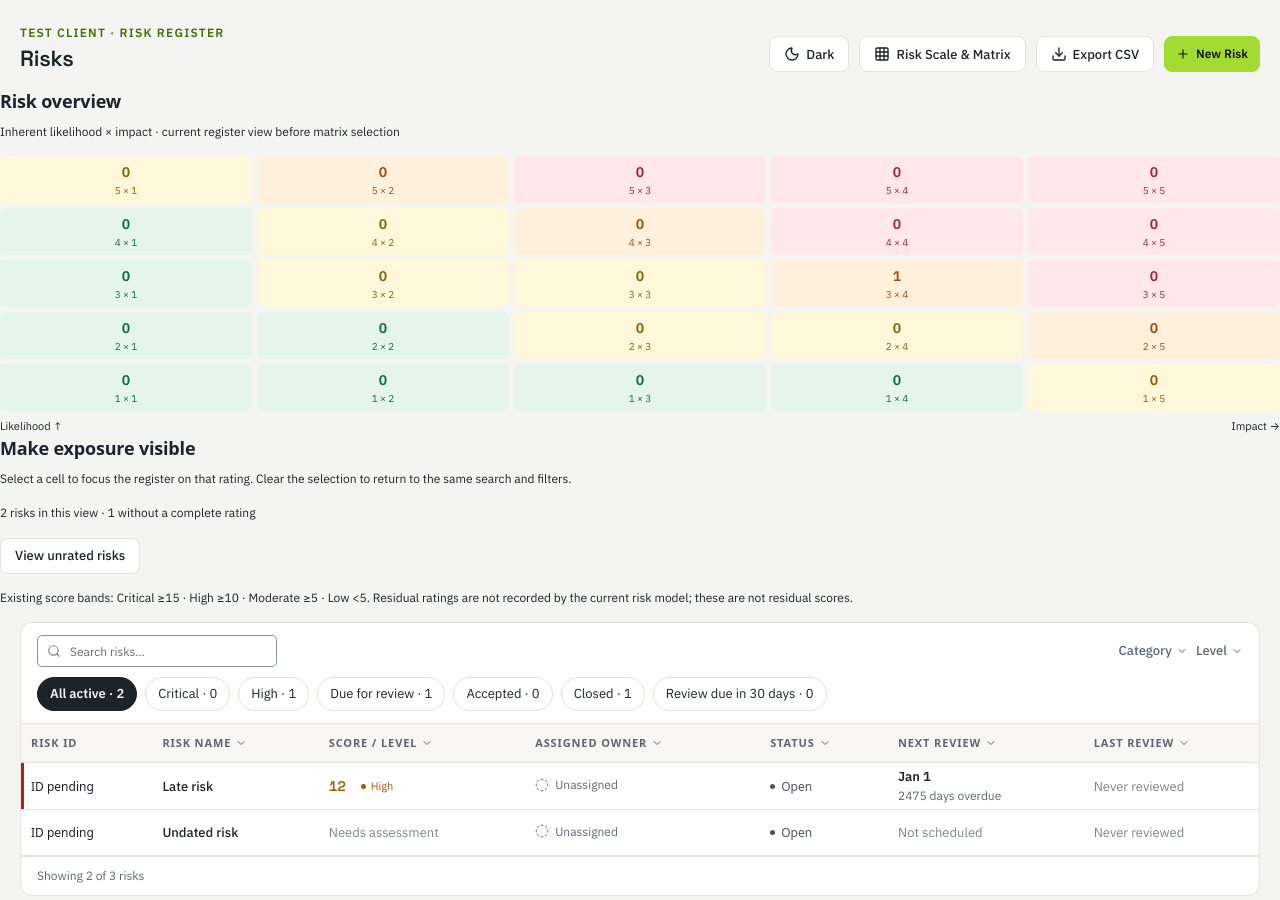
Scenario: approved filters replace summary cards and preserve client isolation
Later steps or results of the test are not shown.
What coordinates should you click on to do the following:
click the button "Due for review · 1"
I would click on:
 (381, 694)
Its box is [317,677,445,711].
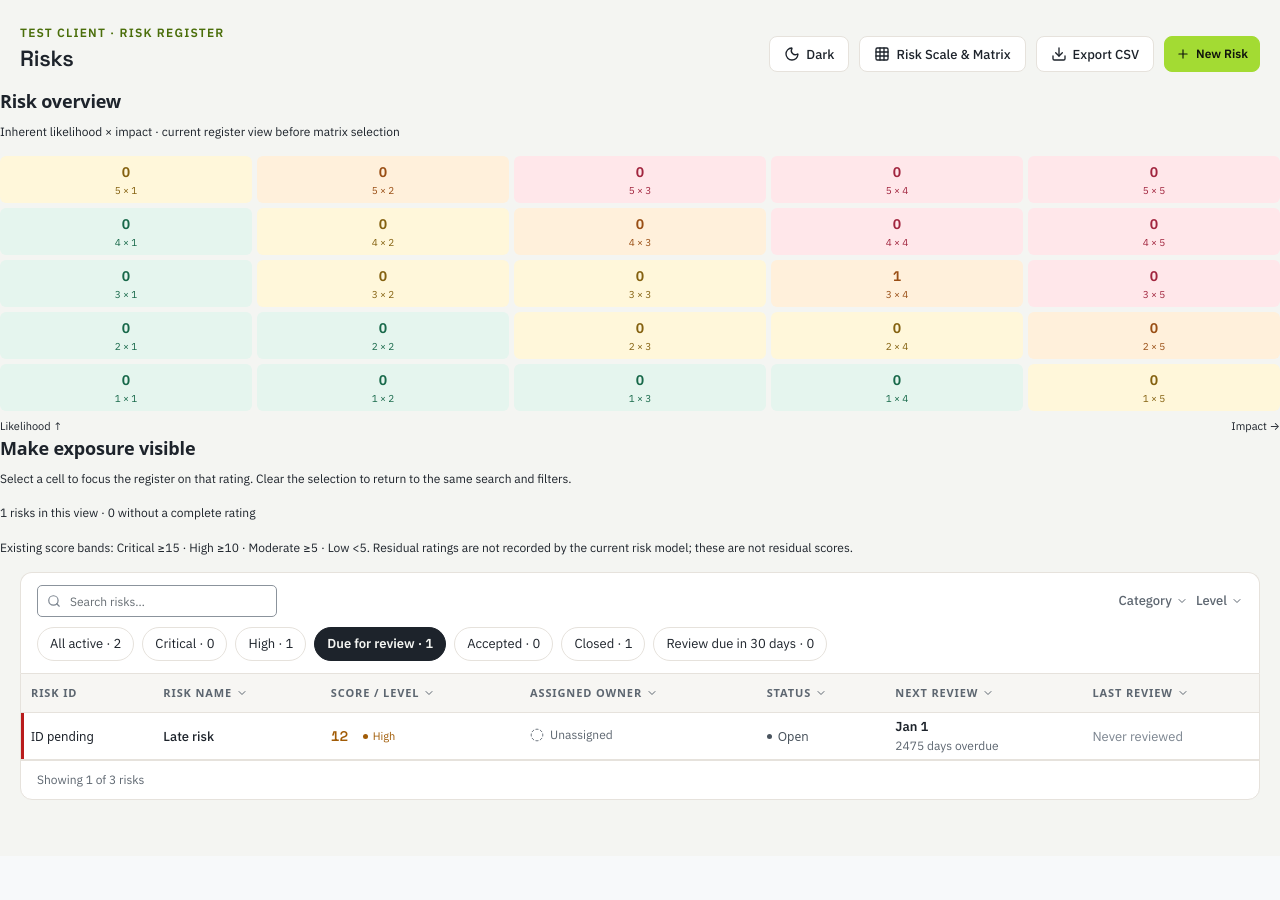
Expected: the table shows "Late risk", [163,722,214,750]
Expected: the button "Undated risk" no longer shows "Undated risk"
